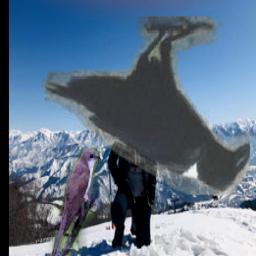Crow: (42, 18, 251, 196)
Cuckoo: (49, 147, 101, 256)
